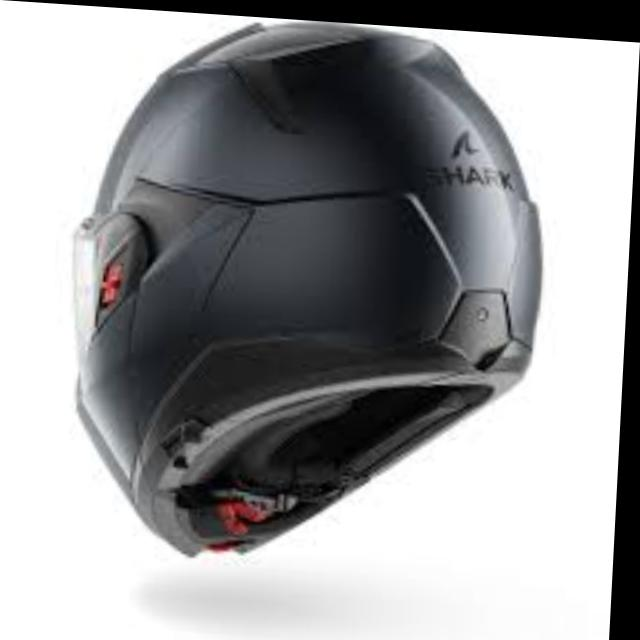motorcycle-helmets: (79, 22, 537, 554)
